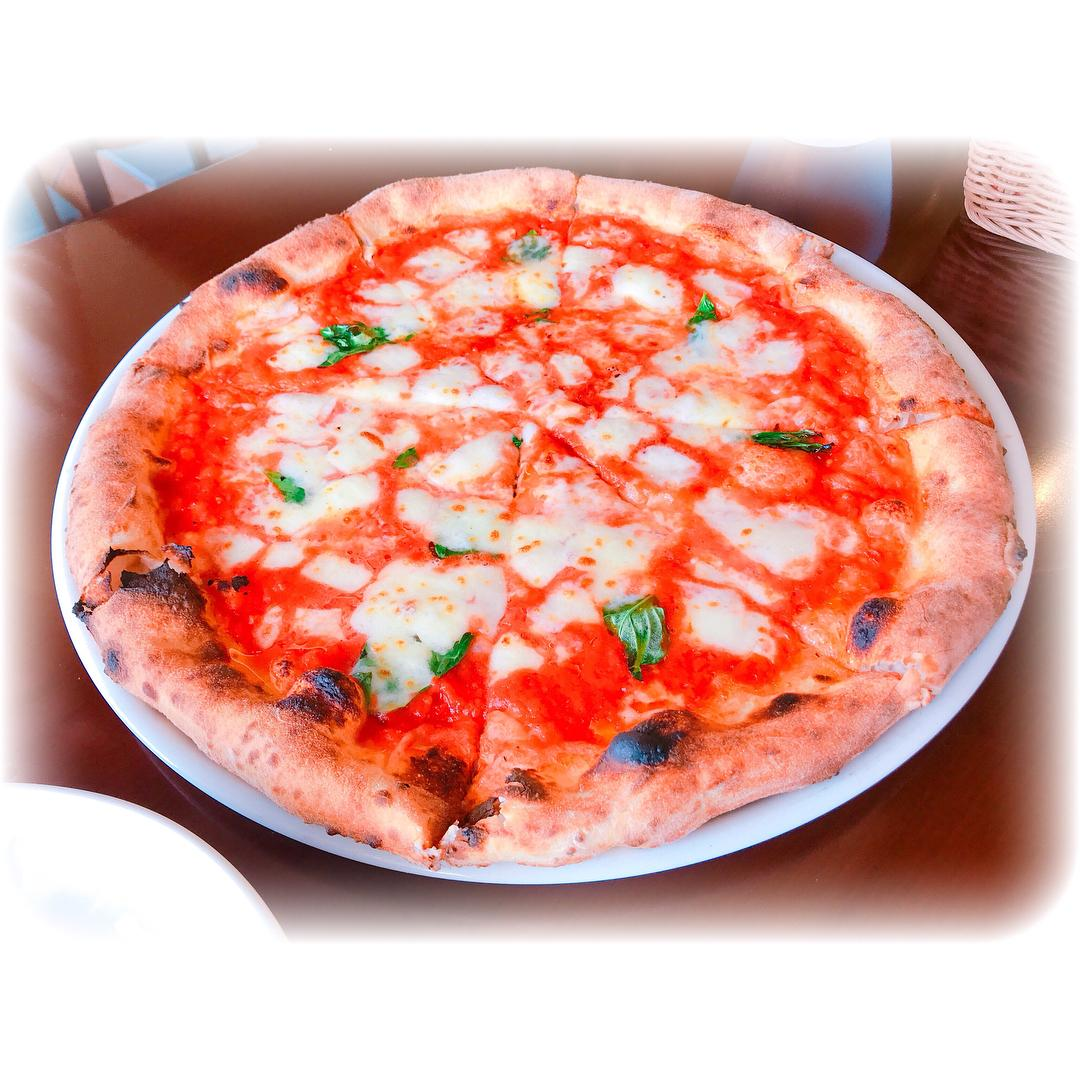Basil: (602, 597, 665, 673), (317, 317, 390, 367), (342, 641, 387, 715), (753, 424, 832, 459), (423, 628, 479, 677), (425, 539, 509, 567), (502, 228, 554, 264), (261, 467, 306, 504), (687, 292, 721, 326), (388, 443, 421, 471)
Cheese: (269, 381, 398, 516), (389, 261, 522, 360), (641, 341, 780, 418), (351, 569, 513, 634), (709, 493, 814, 589), (531, 501, 666, 572), (409, 355, 517, 418)
Pizza: (67, 170, 1015, 870)
